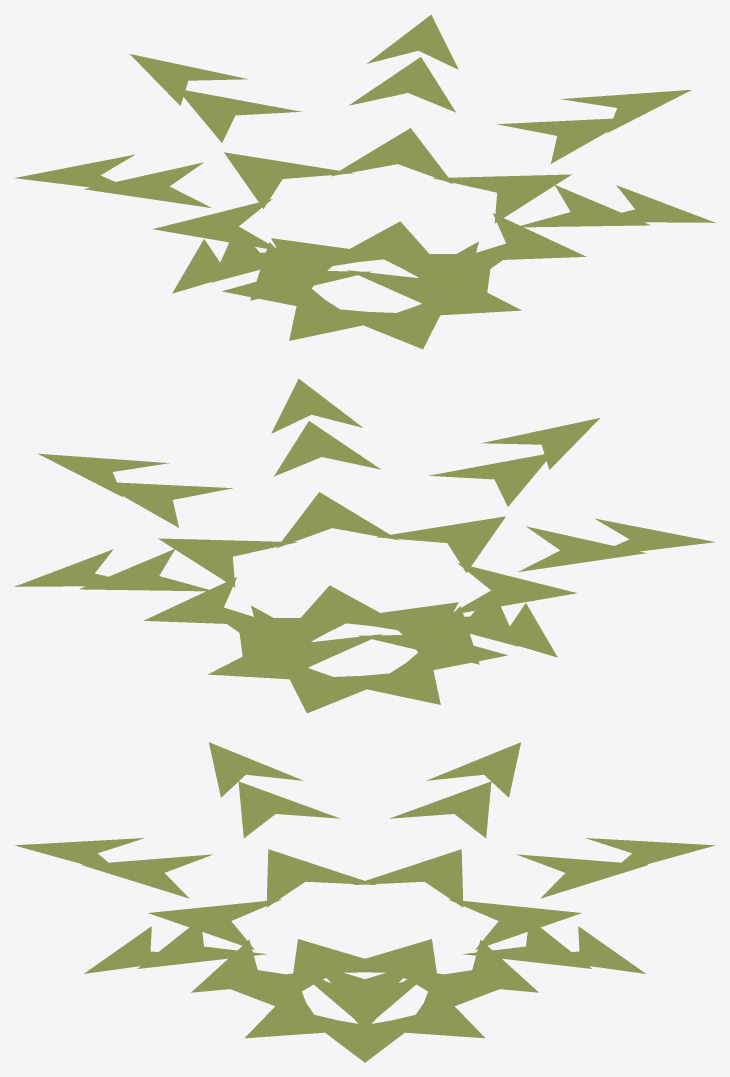
Rendered from SM_Fern.fbx.
3 renders of one model, top to bottom at view 1: azimuth 30°, elevation 25°; view 2: azimuth 150°, elevation 25°; view 3: azimuth 270°, elevation 25°, orthographic.
Visible parts, largest first — view 1: SM_Fern; view 2: SM_Fern; view 3: SM_Fern.
Boxes of the visible parts, <box> form: SM_Fern: <box>14,14,715,349</box>; SM_Fern: <box>14,378,715,713</box>; SM_Fern: <box>15,742,714,1062</box>.
Size of the model in its own units: 1.6 by 1.64 by 0.3051.
